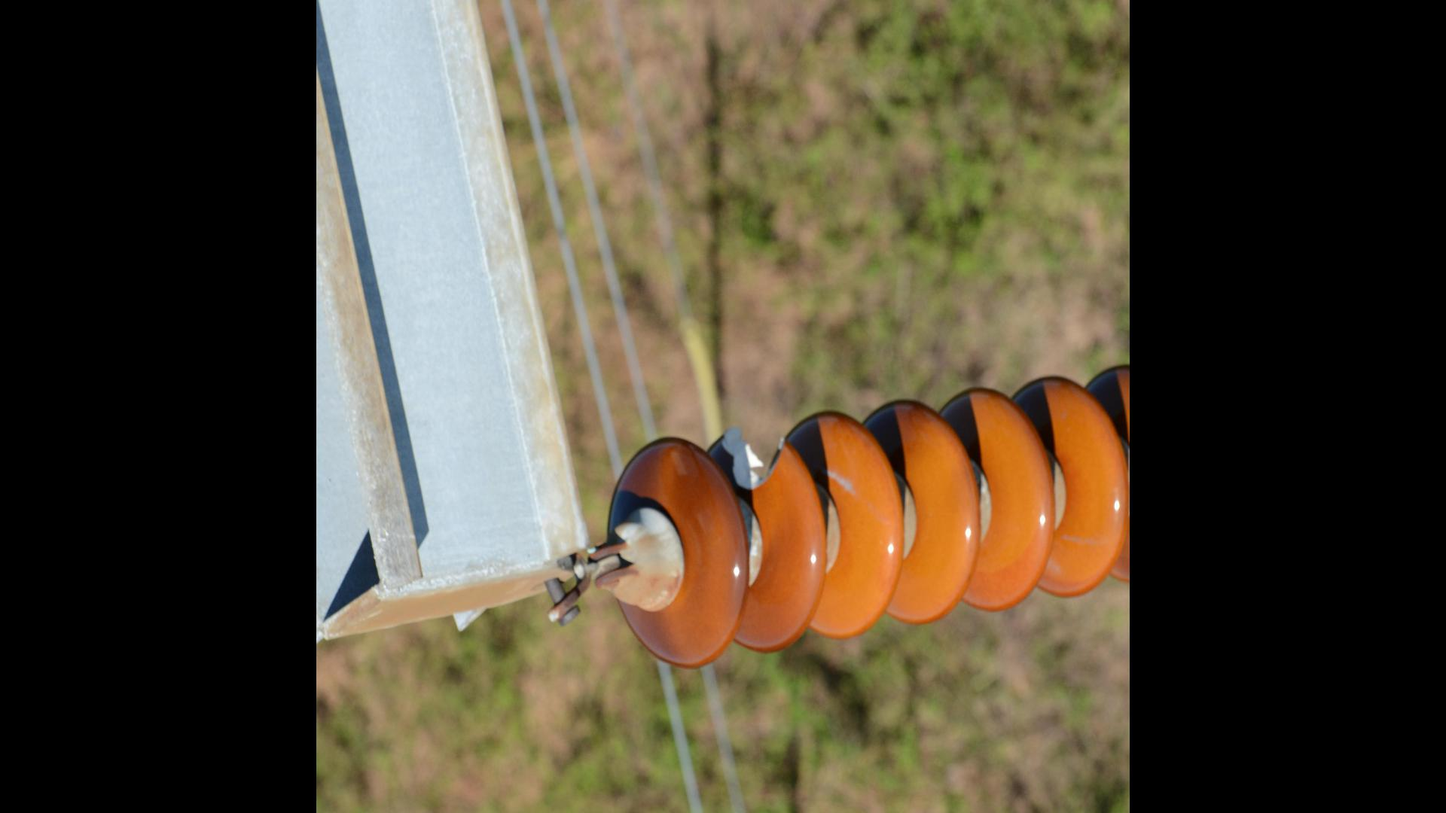insulator: (604, 356, 1132, 677)
insulator_breakage: (709, 414, 822, 498)
